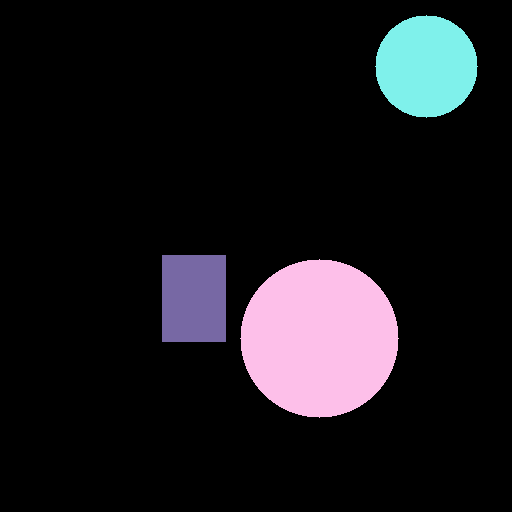circle: (240, 259, 398, 417), (375, 15, 477, 117)
rectangle: (162, 255, 225, 341)
